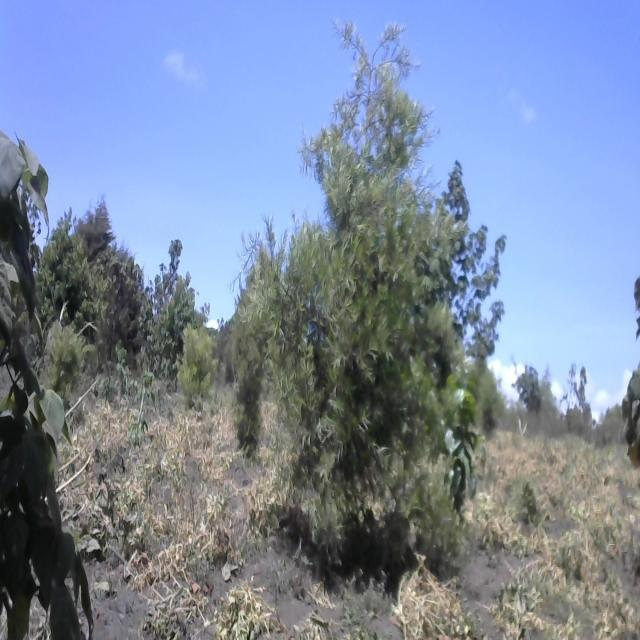Dombeya torrida: (0, 129, 76, 640)
Podocarpus falcatus: (238, 14, 470, 573), (178, 325, 218, 402)
